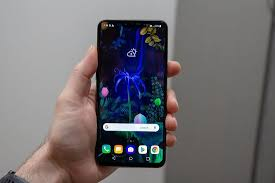lg: (90, 16, 170, 170)
